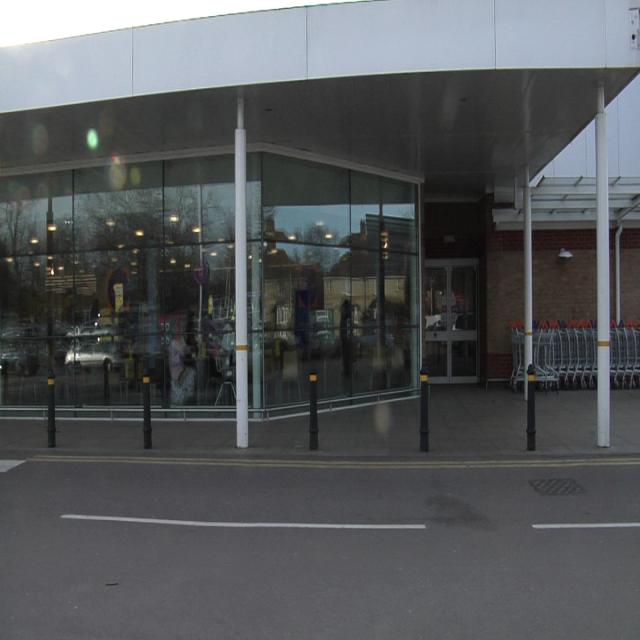Road: (0, 462, 640, 638)
